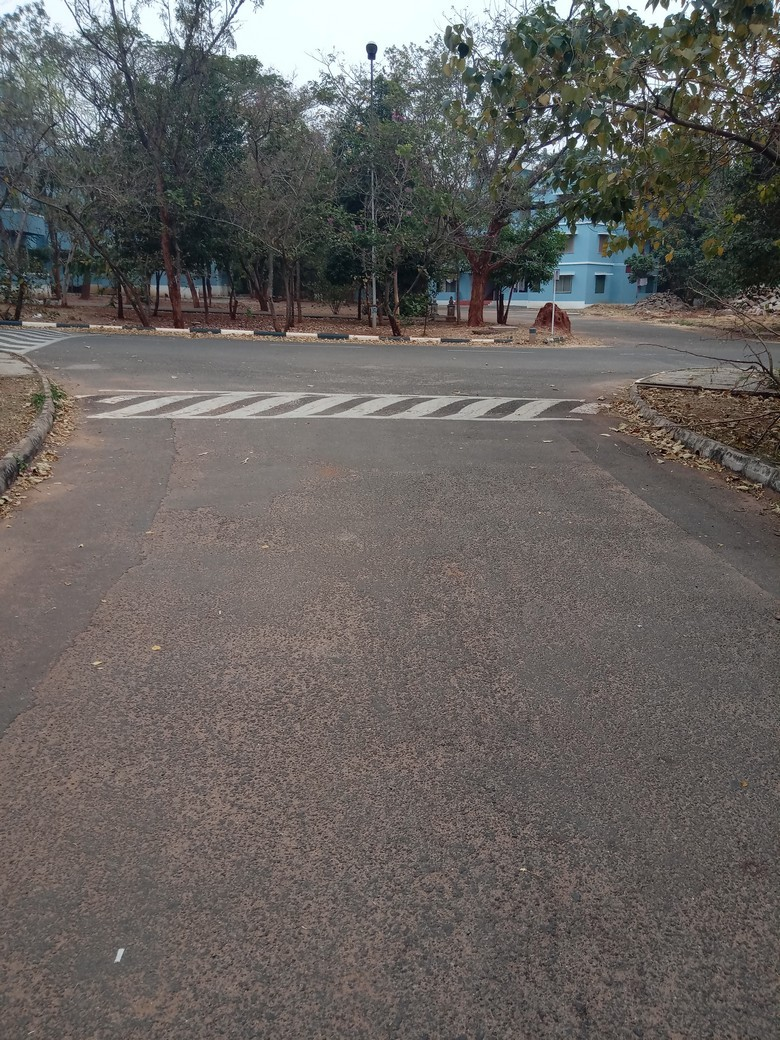bump: (65, 391, 619, 423)
